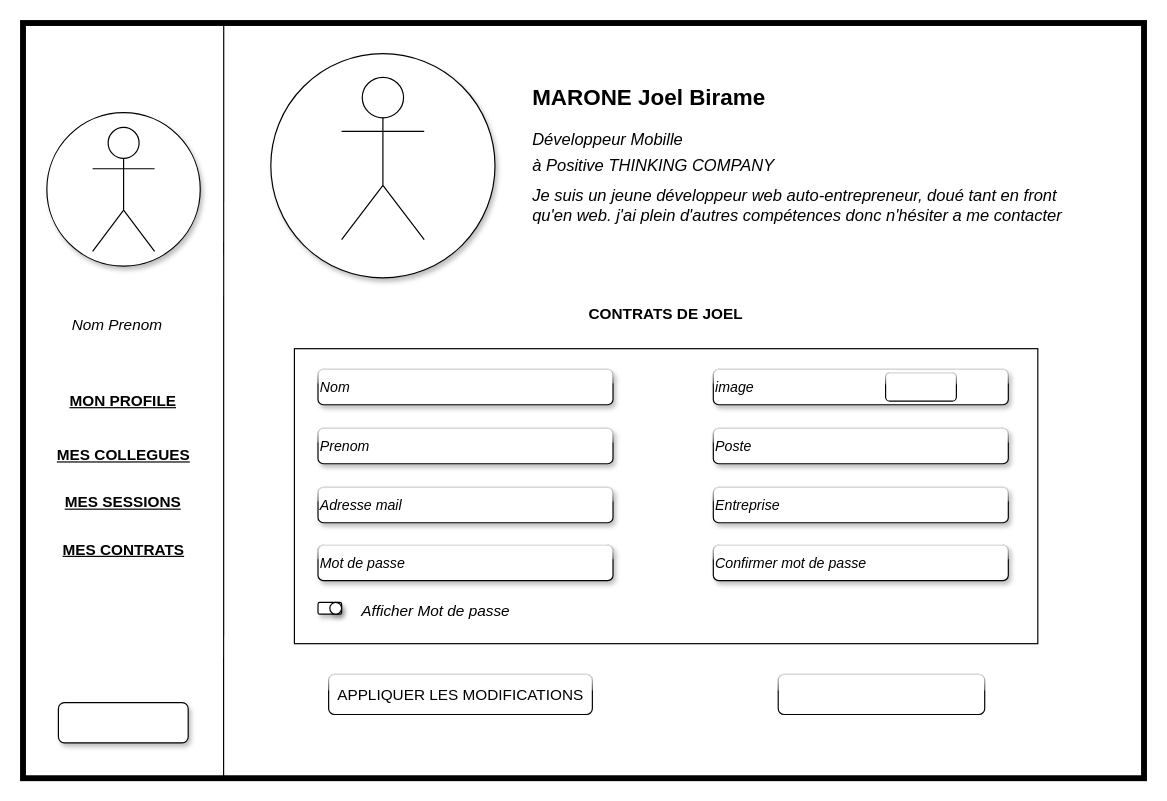
Some shapes in this 1167 by 801 pixel diagram are drawn without their labels. The centre of each missing label's shape, as x and y in pixels:
"Parcourir" belongs at (920,386).
"Se déconnecter" belongs at (124,724).
"SUPRIMMER LE COMPTE" belongs at (881,693).
